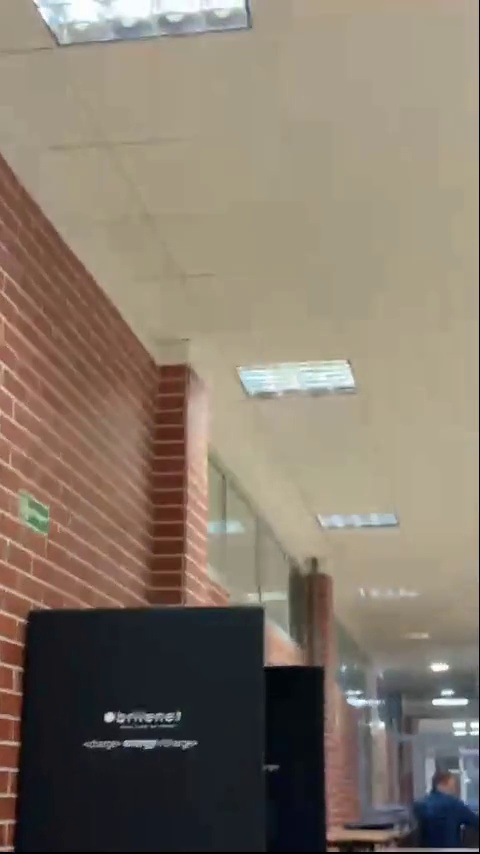no vest: (415, 770, 475, 844)
